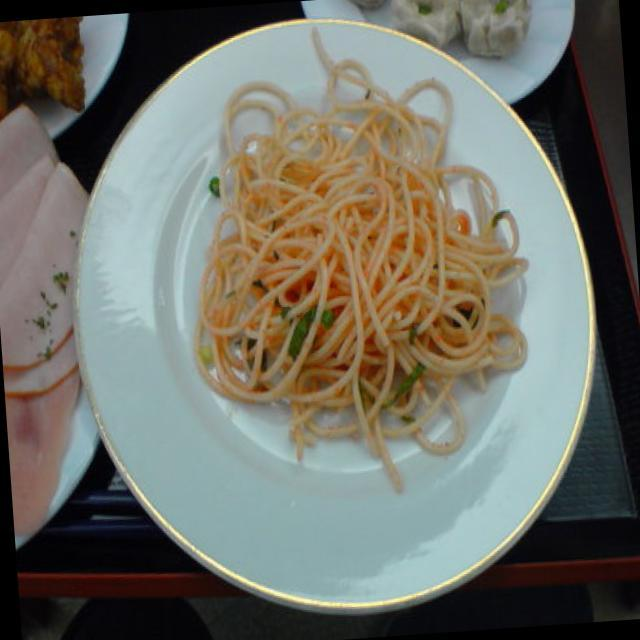Pasta: (163, 68, 532, 441)
